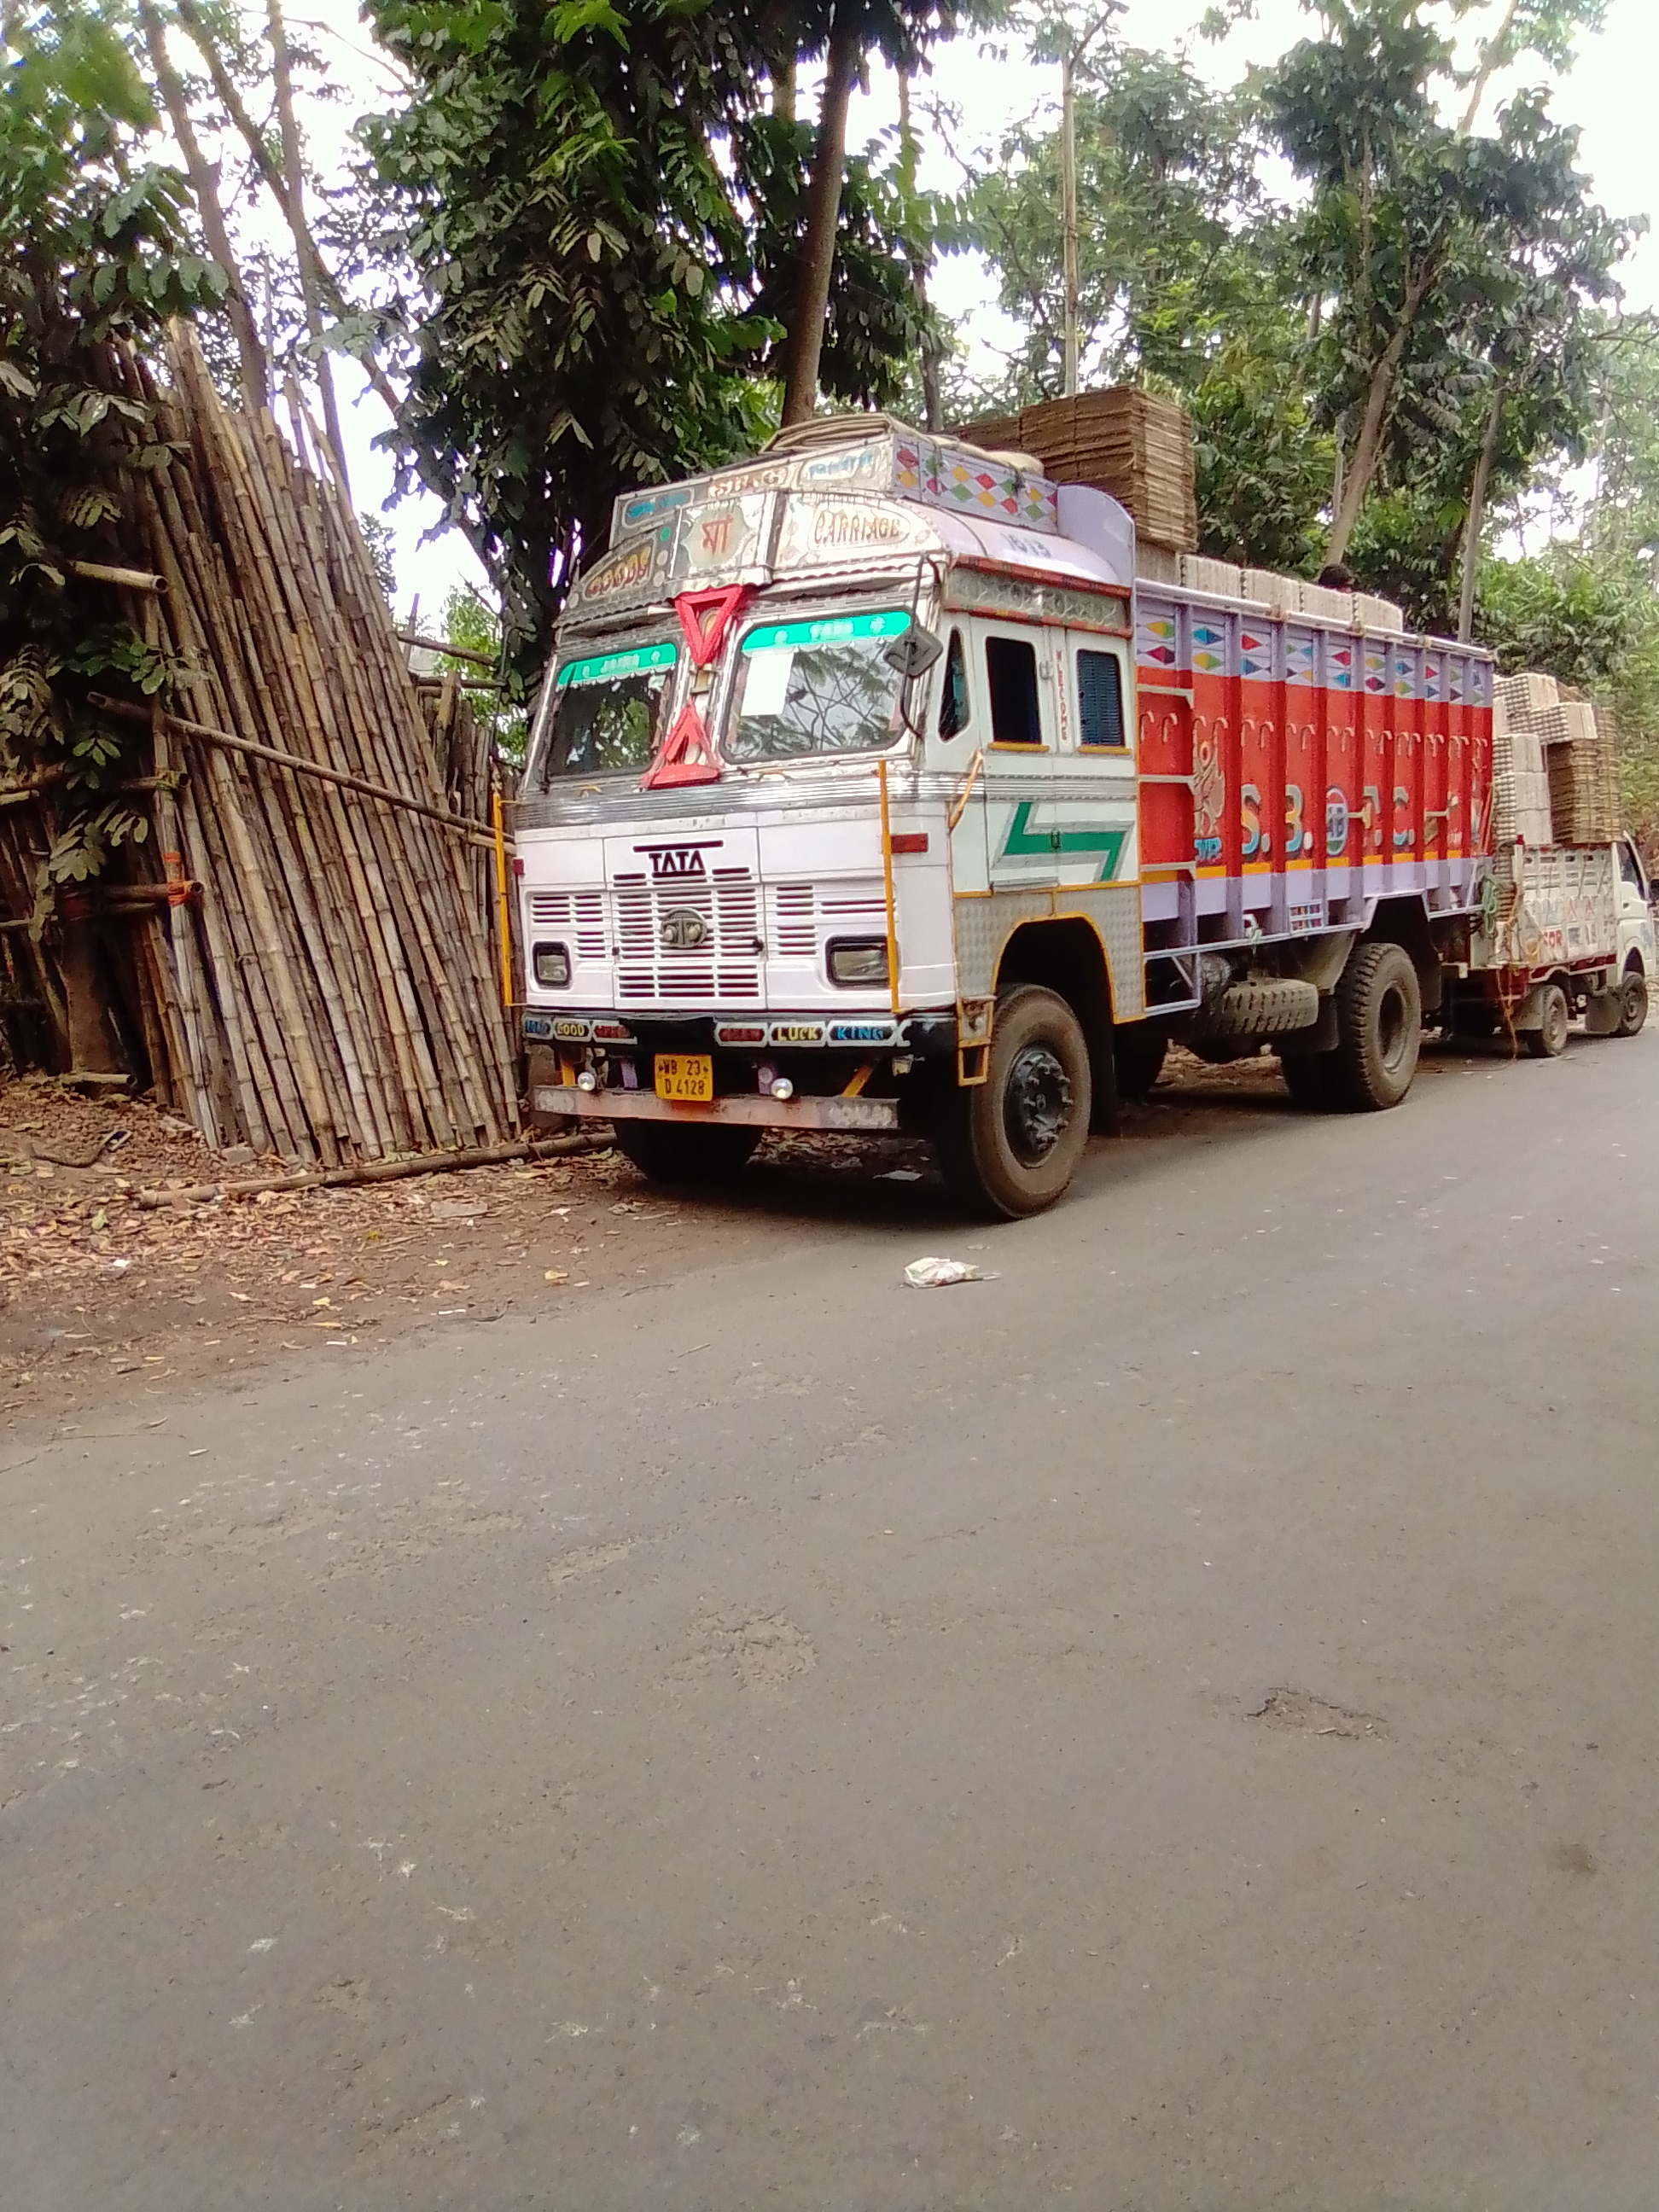truck: (490, 423, 1507, 1223)
